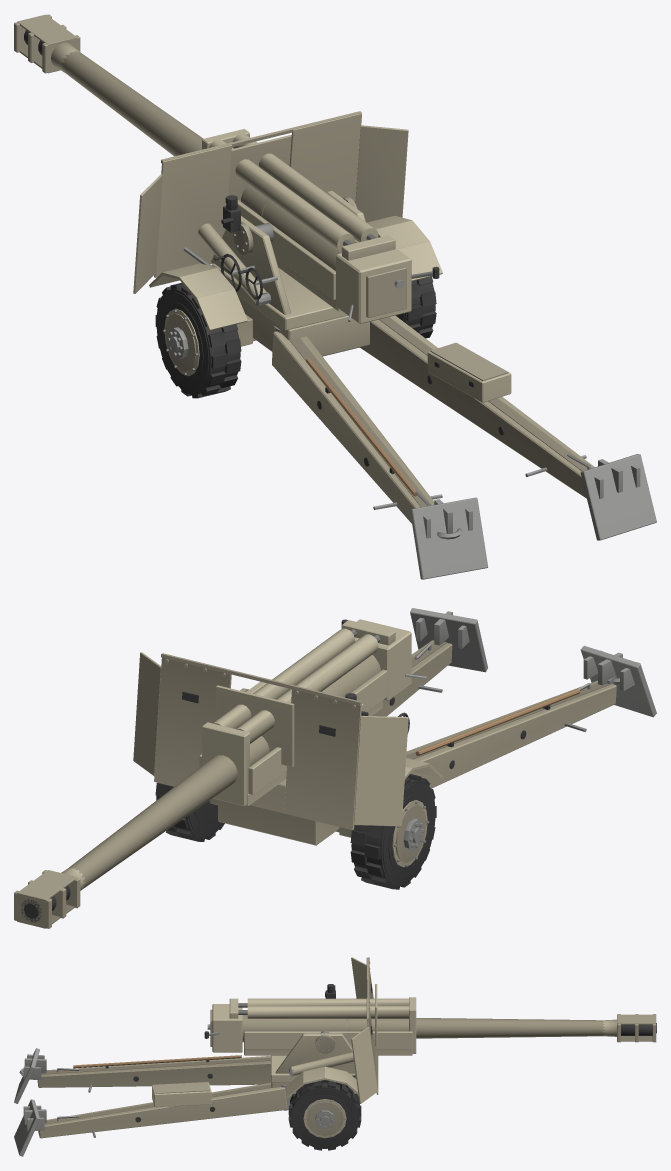
The model's file is rus_tow_d20.glb.
3 renders of one model, top to bottom at view 1: azimuth 30°, elevation 25°; view 2: azimuth 150°, elevation 25°; view 3: azimuth 270°, elevation 25°, orthographic. The views are drawn at different scales.
Visible parts, largest first — view 1: body, turret, barrel, wheel_0, wheel_1; view 2: barrel, turret, body, wheel_0, wheel_1; view 3: body, barrel, turret, wheel_1.
Part boxes in pixels (box(x1,y1,x2,y2)): body: box(149, 215, 656, 579); turret: box(133, 111, 408, 330); barrel: box(14, 14, 439, 323); wheel_0: box(155, 282, 241, 398); wheel_1: box(378, 237, 436, 338); barrel: box(14, 619, 426, 928); turret: box(133, 652, 409, 830); body: box(209, 608, 656, 845); wheel_0: box(350, 774, 436, 889); wheel_1: box(155, 782, 224, 841); body: box(14, 1048, 358, 1156); barrel: box(204, 984, 656, 1055); turret: box(271, 957, 378, 1103); wheel_1: box(288, 1080, 361, 1150).
Bounding box in the file's own units: 2.7 × 2.05 × 8.93.
